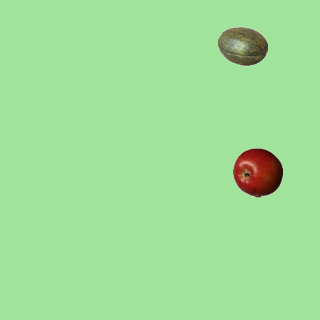Apple Braeburn: (232, 147, 282, 197)
Melon Piel de Sapo: (217, 21, 267, 71)
